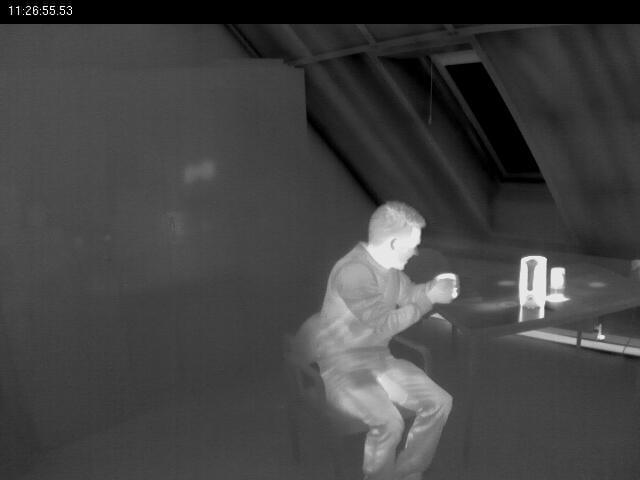person: (295, 198, 466, 480)
